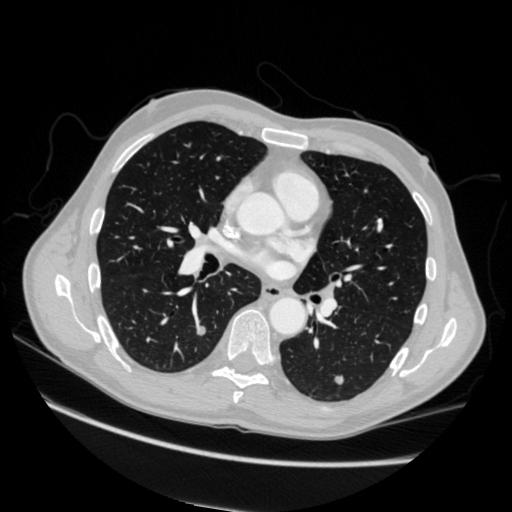nodule: (193, 322, 209, 338)
